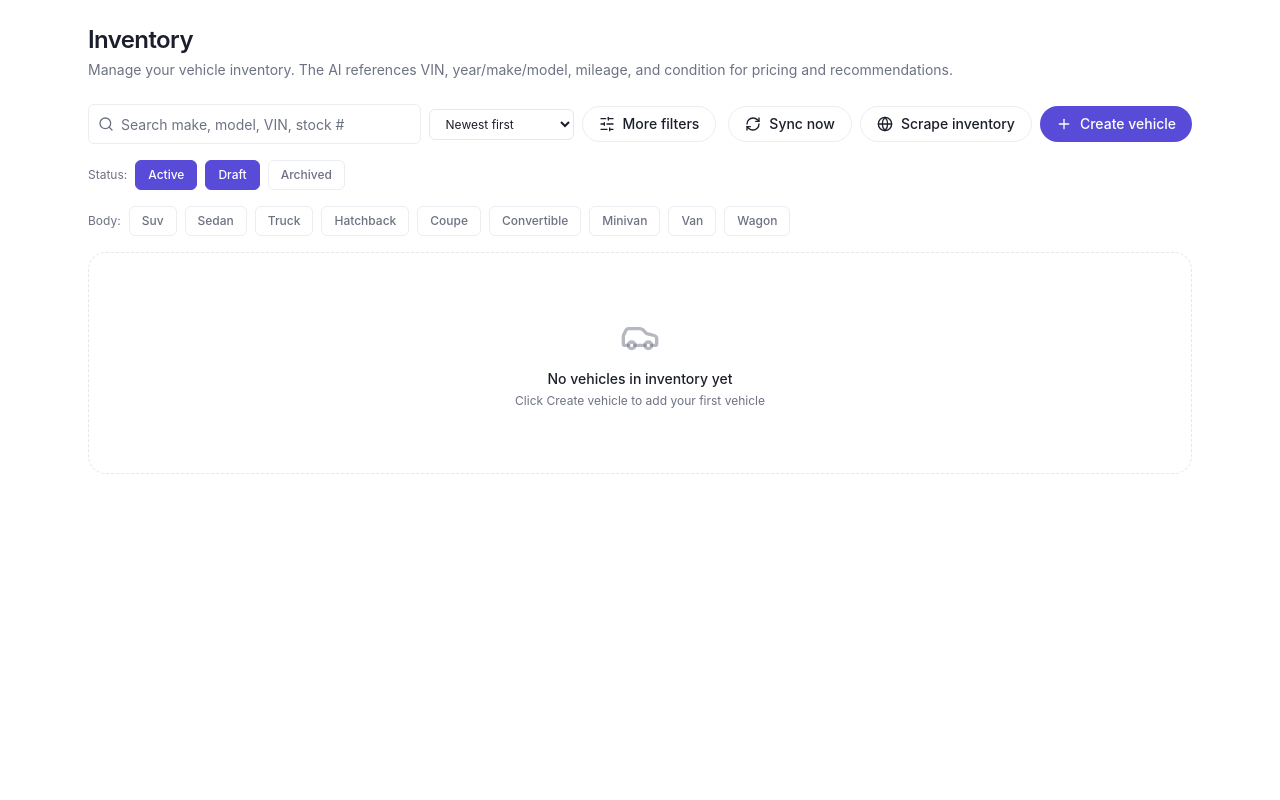
Test case: KAN-1217 Scenario 2 — VIN blur validation › opens create modal; invalid VIN on blur shows inline error
The image size is (1280, 800).
Click the button "Create vehicle" at (1116, 124), box [1040,106,1192,142]
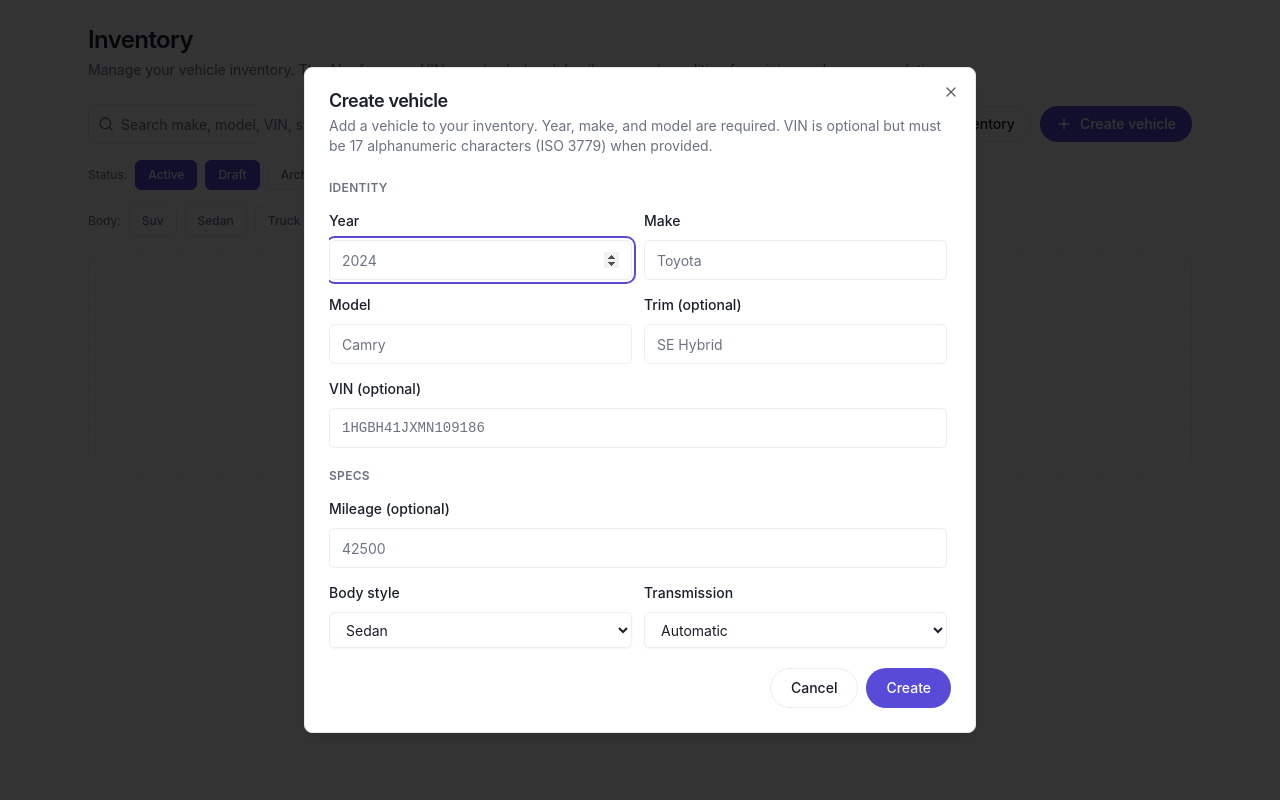
Check: the heading "Create vehicle" is shown, box [329,90,448,111]
Type "INVALID" into the field labelled "VIN (optional)" at (638, 428), box [329,408,947,448]
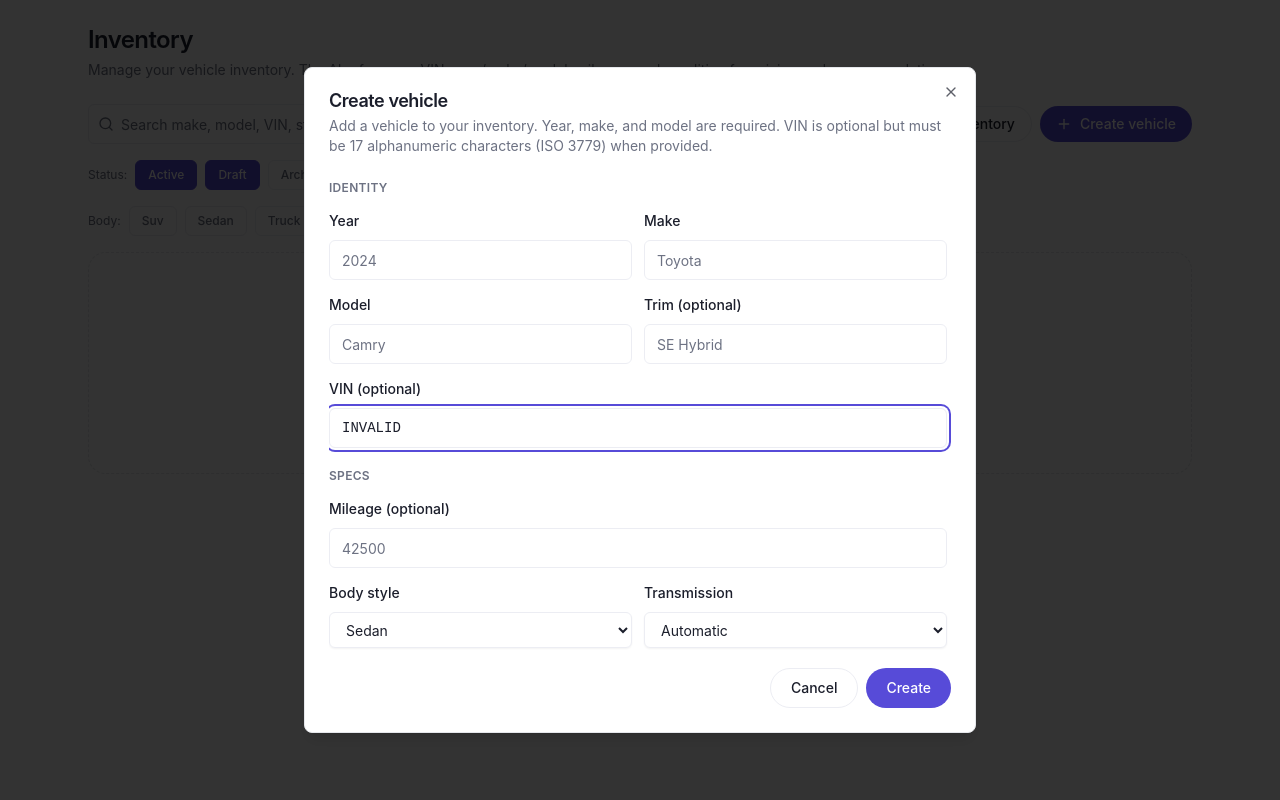
Note: Move focus elsewhere to trigger blur validation.
Press Tab
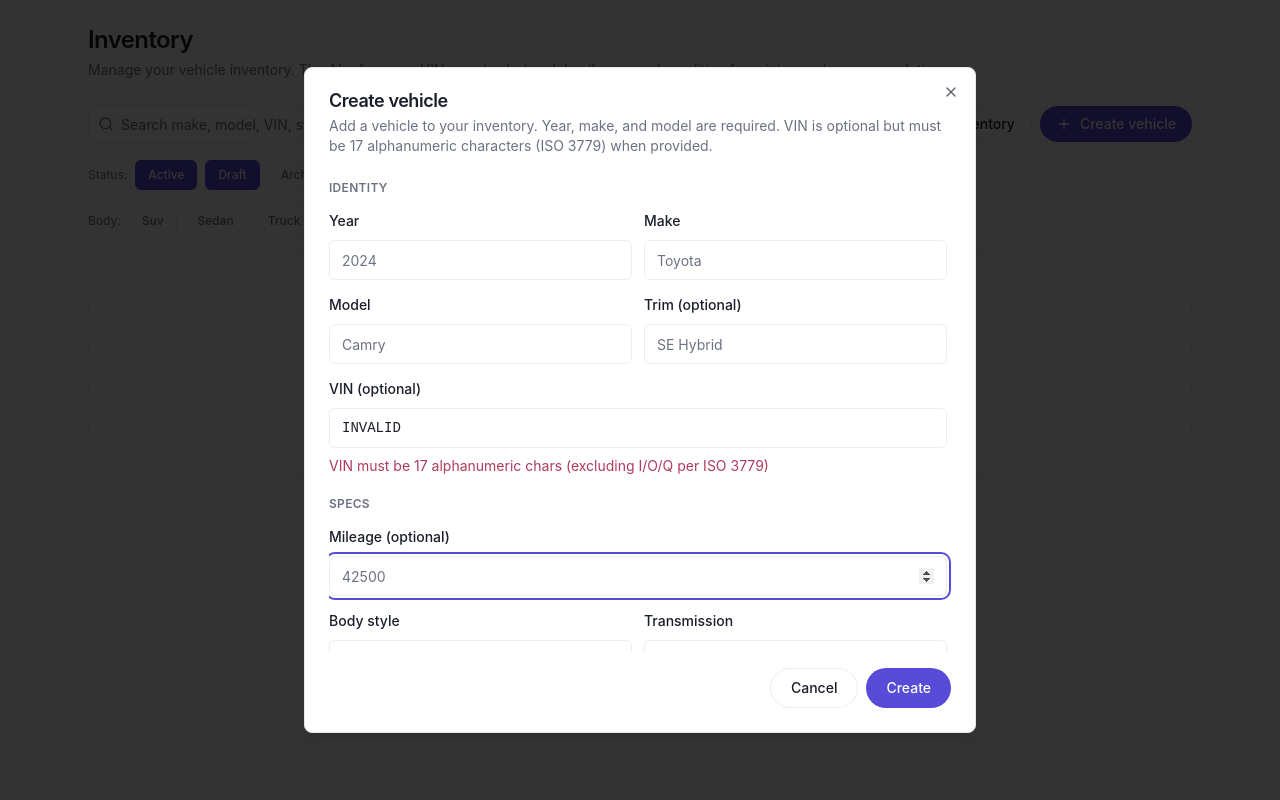
Check: the text "VIN must be 17 alphanumeric chars (excluding I/O/Q per ISO 3779)" is shown, box [329,457,769,474]
